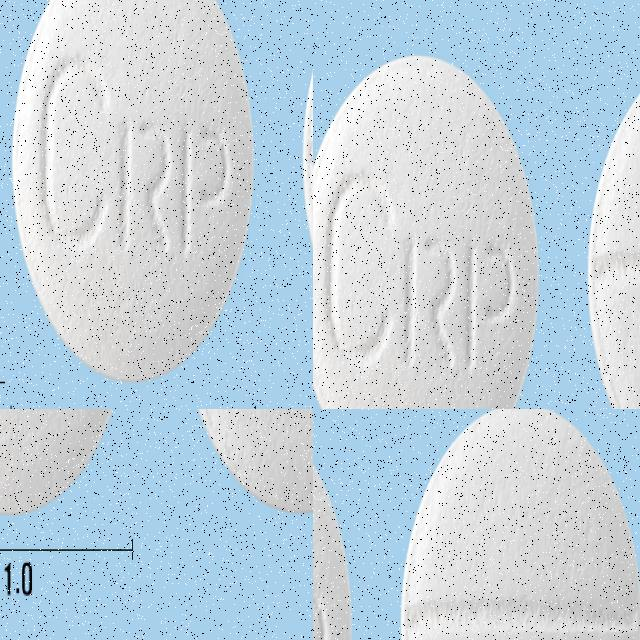Cefixime Cap- Reyon: (350, 359, 634, 409)
Ciquroby: (167, 409, 313, 519), (0, 409, 141, 522)
Ciropan: (396, 409, 640, 640)
Clathrocin -500mg: (39, 212, 313, 409)
